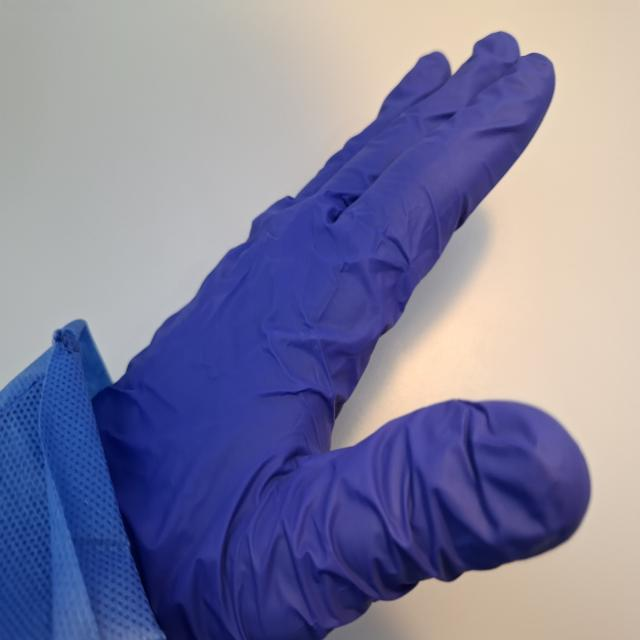glove_on: (84, 28, 596, 640)
